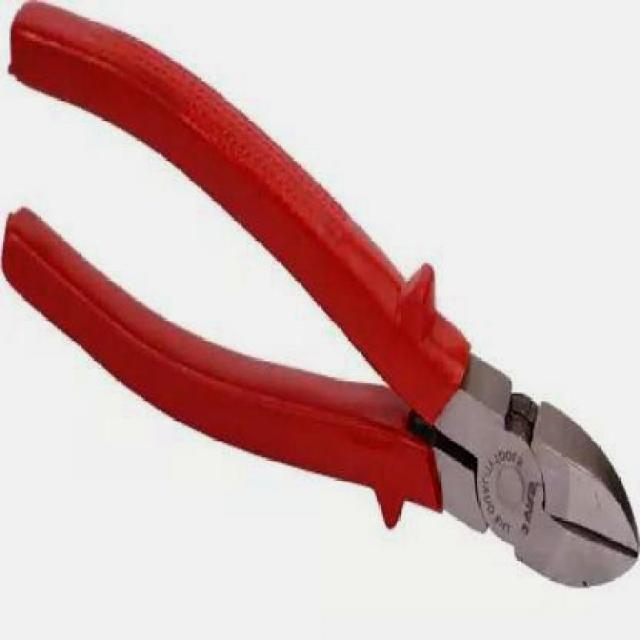pliers: (1, 4, 638, 590)
